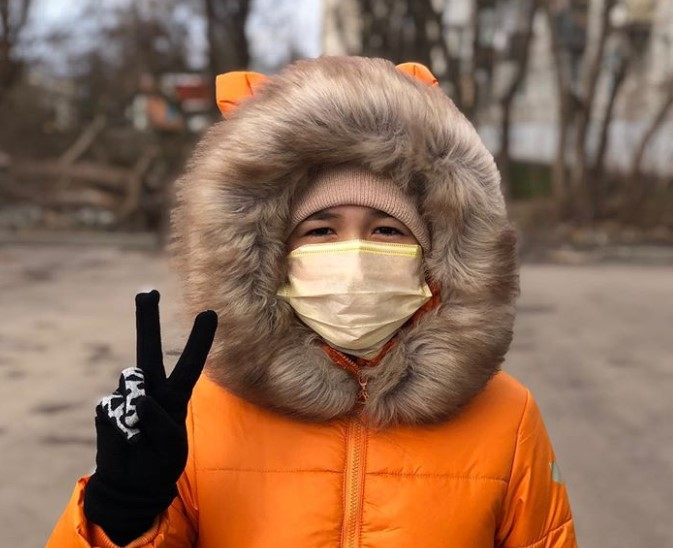face_with_mask: (249, 141, 454, 364)
